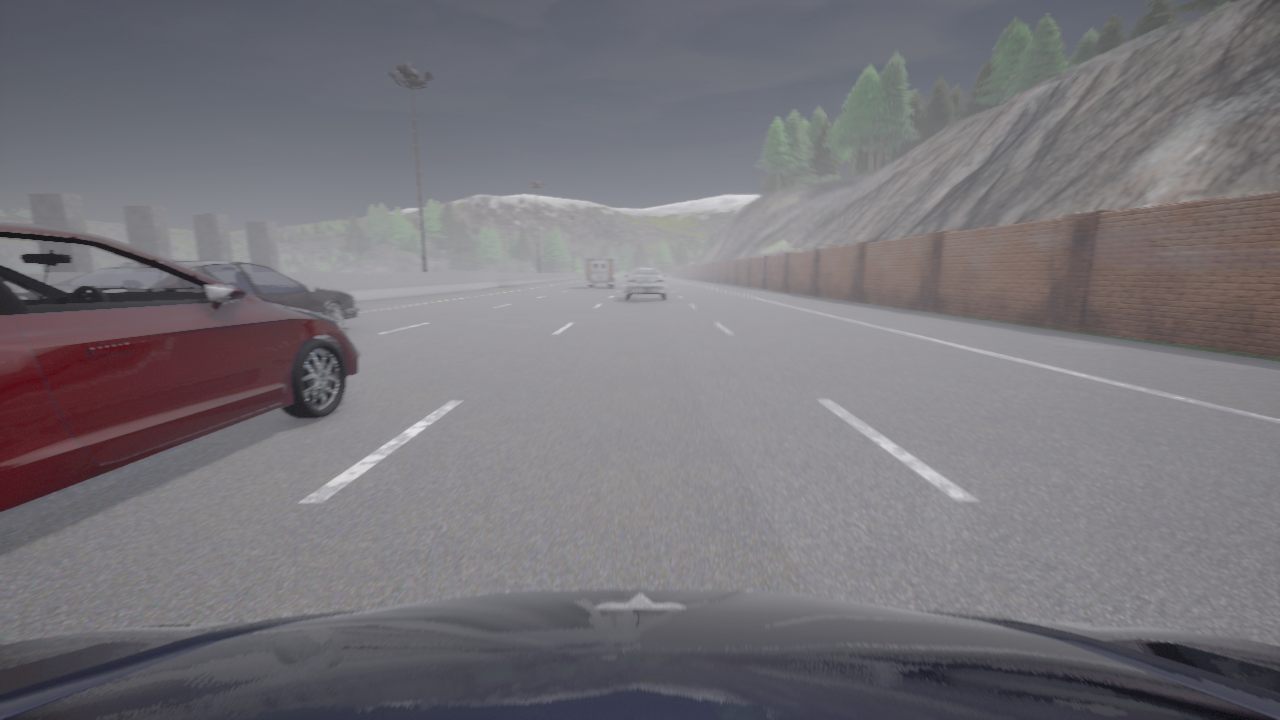cyclist: (0, 588, 1279, 719), (170, 260, 359, 324), (625, 267, 666, 300), (585, 257, 618, 287)
